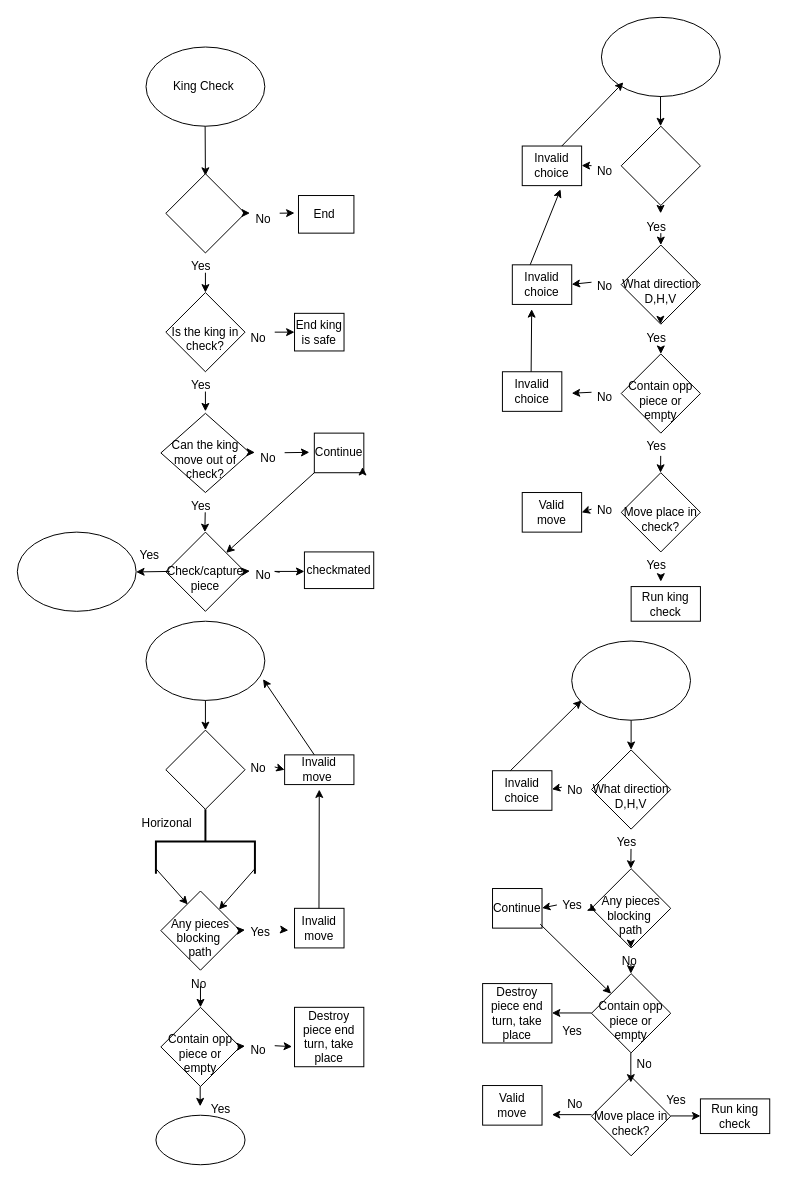
This 787x1182 diagram has some shape labels left out. Here are the shapes that lost their labels. From the top down, the box of each, then its label:
(600, 16, 720, 97): King Movement
(620, 125, 700, 205): Is it one space away
(165, 173, 245, 253): Is it the king turn?
(16, 531, 136, 611): King is safe
(145, 620, 265, 700): Rook movement
(571, 640, 691, 720): Queen Movement
(165, 729, 245, 809): Horizontal or Vertical
(154, 808, 255, 874): Vertical
(155, 1114, 245, 1165): Move piece
